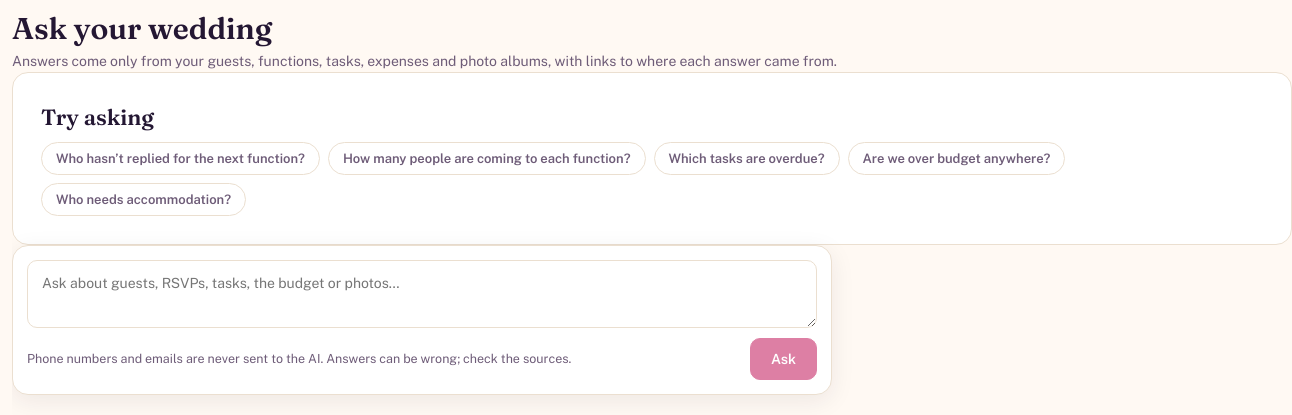
Test case: Ask your wedding › shows why an answer failed
The width and height of the screenshot is (1292, 415).
Type "Budget?" into the text box named "Your question". click: (422, 294)
box: 27,260 -> 817,328
Then press Enter
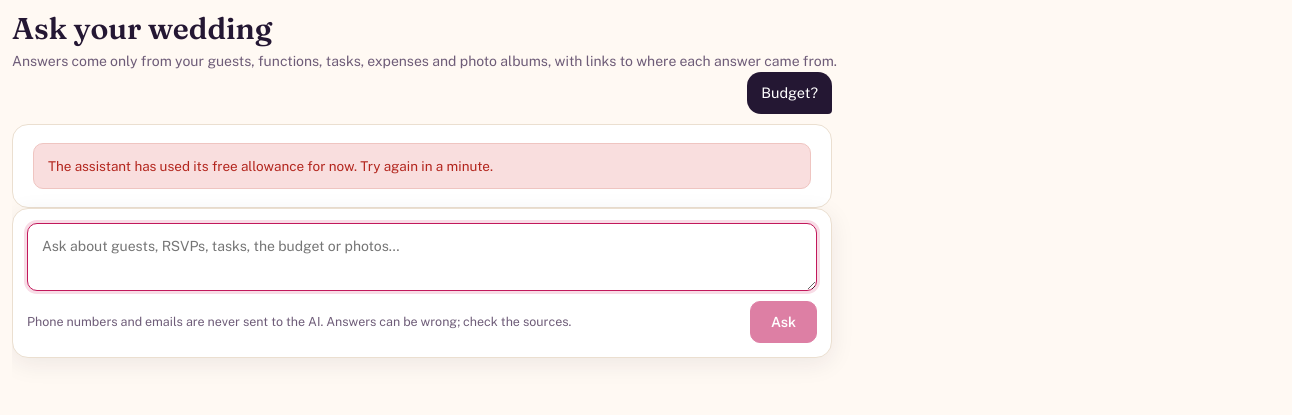
Expected: the button "Ask" is disabled, 750,301 -> 817,343
Now the message shows "free allowance", box 48,158 -> 493,174
